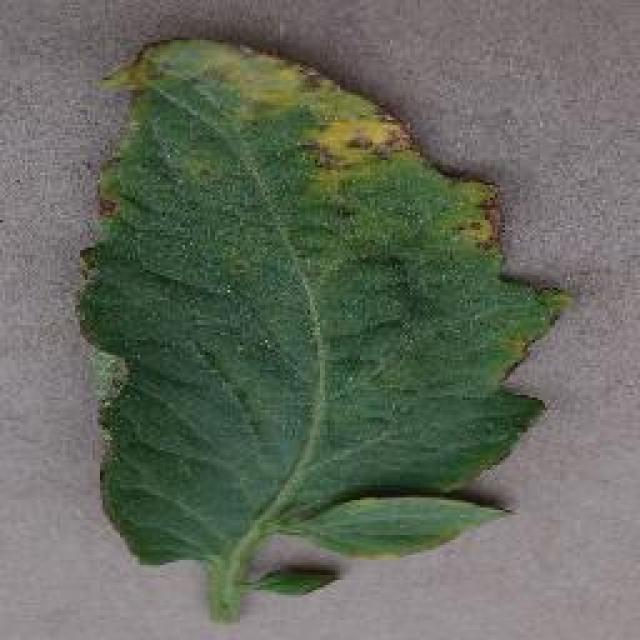bacterial spot: (75, 36, 582, 624)
